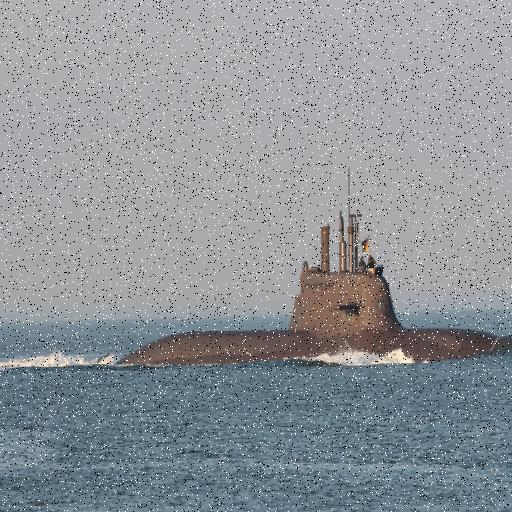submarine: (105, 152, 512, 369)
